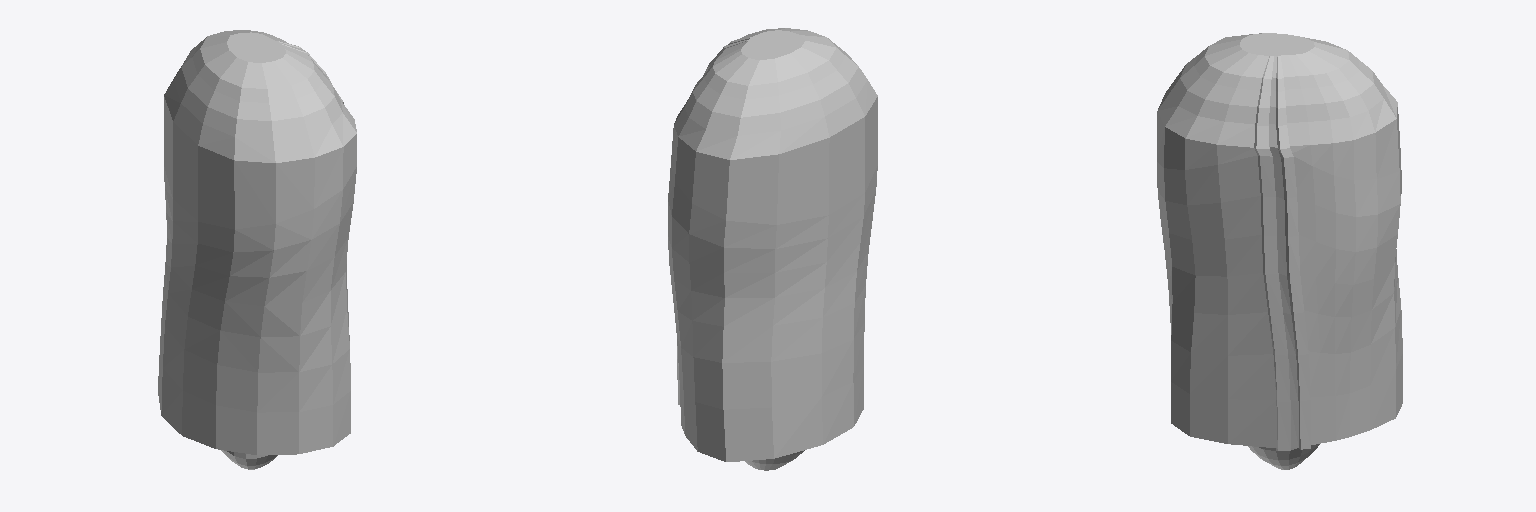
The model's file is 12_legUP_L.obj.
The picture shows the model from 3 angles: view 1: azimuth 30°, elevation 25°; view 2: azimuth 150°, elevation 25°; view 3: azimuth 270°, elevation 25°; orthographic projection.
Visible parts, largest first — view 1: legUP_L; view 2: legUP_L; view 3: legUP_L.
Part boxes in pixels (x1,y1,x2,y2): legUP_L: (158,30,356,469); legUP_L: (668,28,877,470); legUP_L: (1157,33,1402,469).
Size of the model in its own units: 1.29 by 3.23 by 1.72.